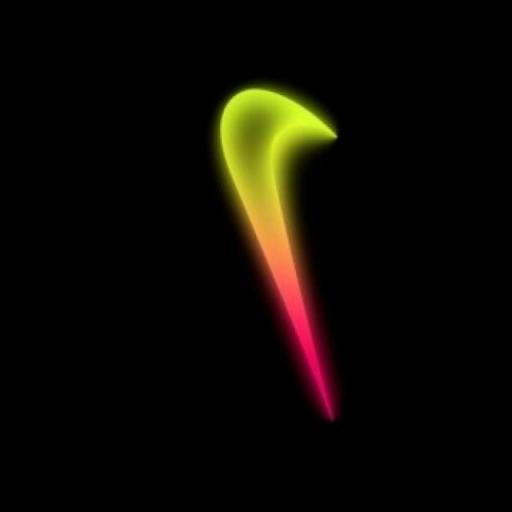Nike: (186, 58, 361, 428)
